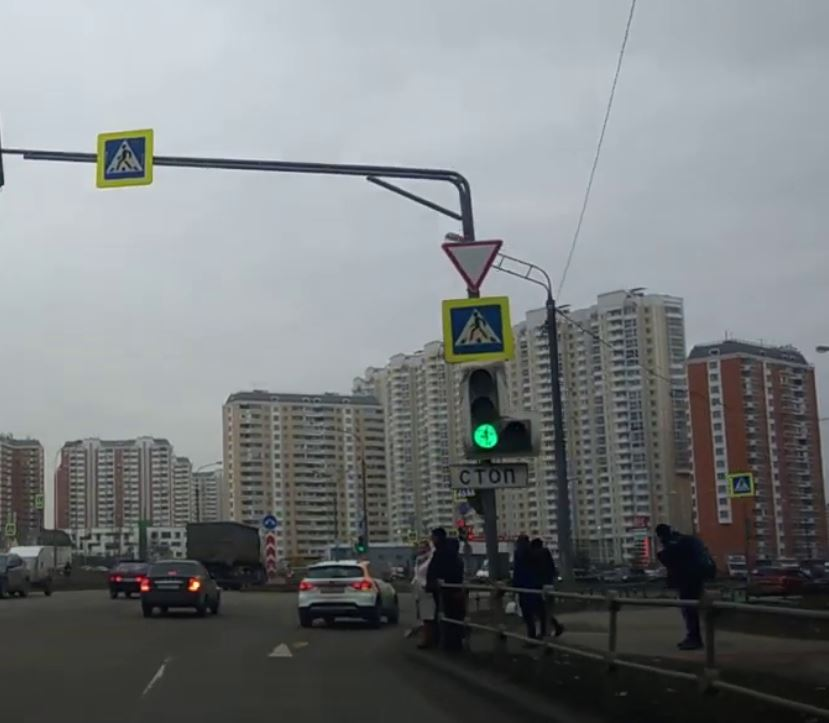Yaya Gecidi: (448, 306, 509, 353), (103, 142, 145, 179)
Yol Ver: (442, 236, 501, 295)
